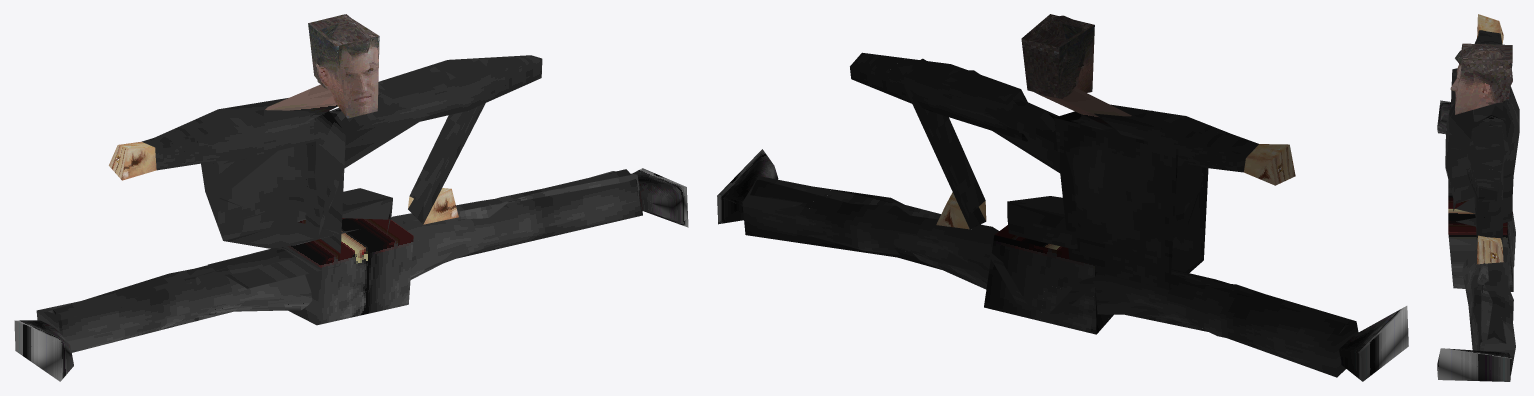
The model's file is CtrevelyanZ.obj.
3 views of the same model, side by side, from view 1: azimuth 30°, elevation 25°; view 2: azimuth 150°, elevation 25°; view 3: azimuth 270°, elevation 25° (orthographic). The views are drawn at different scales.
Size of the model in its own units: 2167 by 918 by 306.
17 materials, 17 textured.
